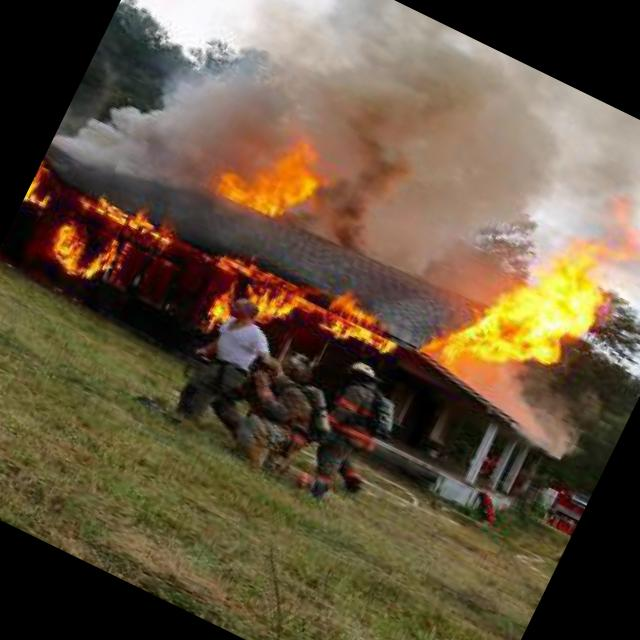fire: (403, 182, 628, 422), (207, 235, 406, 363), (34, 178, 184, 308), (250, 104, 314, 238)
smoke: (201, 0, 640, 281), (60, 9, 282, 228), (429, 346, 605, 486)
